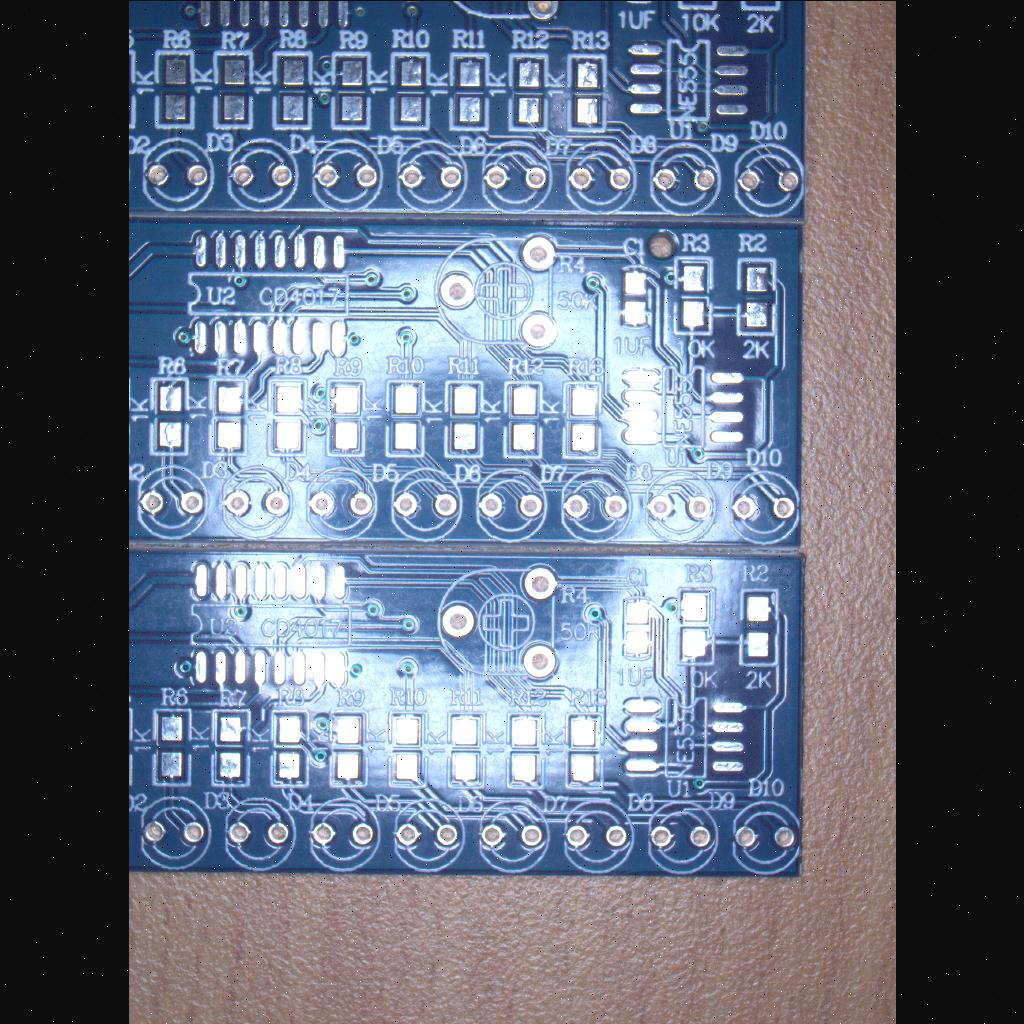NG: (184, 223, 358, 367), (186, 554, 362, 696), (622, 34, 758, 126), (619, 688, 755, 780), (614, 364, 748, 456), (186, 0, 362, 36), (561, 704, 609, 790), (148, 702, 196, 788), (264, 372, 310, 458), (500, 374, 546, 460), (738, 582, 782, 670), (671, 250, 715, 338), (384, 376, 430, 460), (558, 375, 604, 459), (442, 374, 488, 458), (736, 252, 780, 338), (676, 580, 720, 666), (322, 372, 366, 456), (148, 370, 192, 454), (205, 375, 249, 459), (502, 706, 546, 790), (268, 706, 312, 790), (210, 704, 254, 786), (384, 704, 428, 786), (445, 706, 489, 788), (326, 706, 368, 788), (568, 52, 608, 134), (510, 53, 548, 133), (618, 258, 658, 332), (618, 590, 658, 664), (156, 50, 194, 126), (215, 50, 253, 124), (395, 50, 431, 126), (332, 54, 368, 128), (277, 54, 311, 128), (454, 56, 488, 128), (128, 699, 136, 789), (128, 46, 136, 126)
